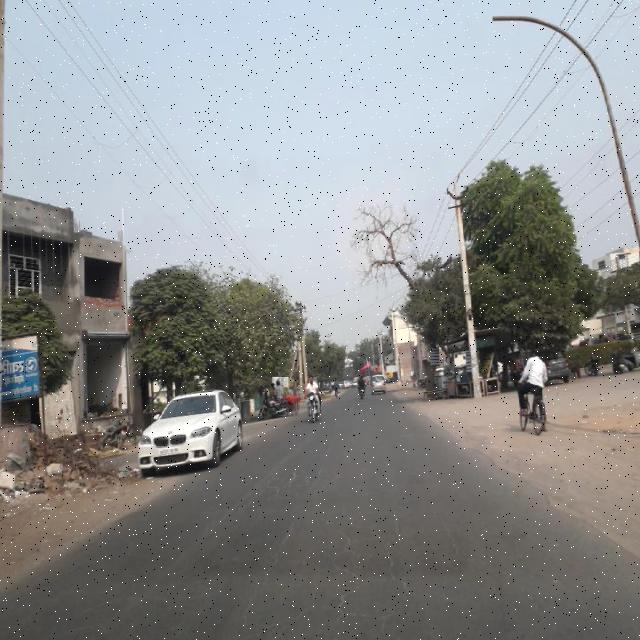D20: (334, 496, 412, 618), (266, 460, 317, 498)
